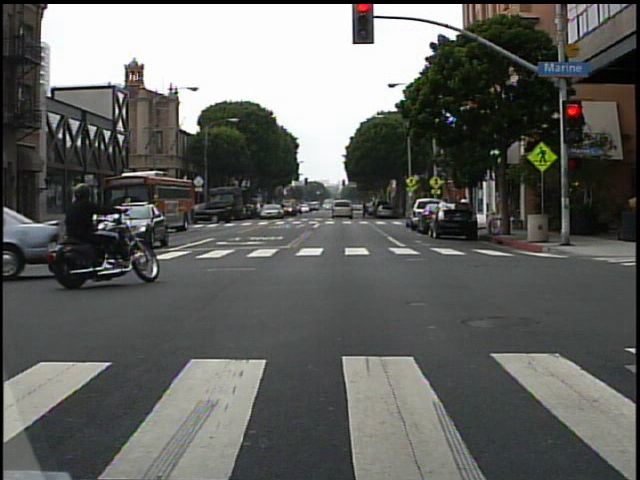person: (50, 179, 134, 289)
